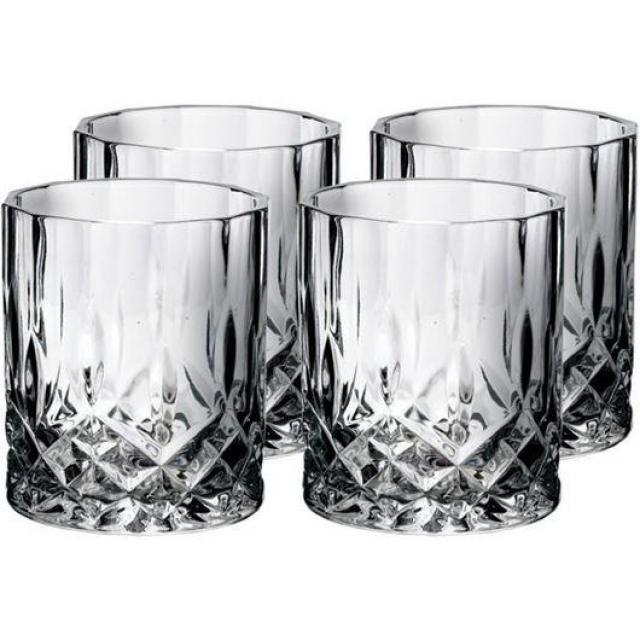non-organic waste: (0, 180, 267, 531)
